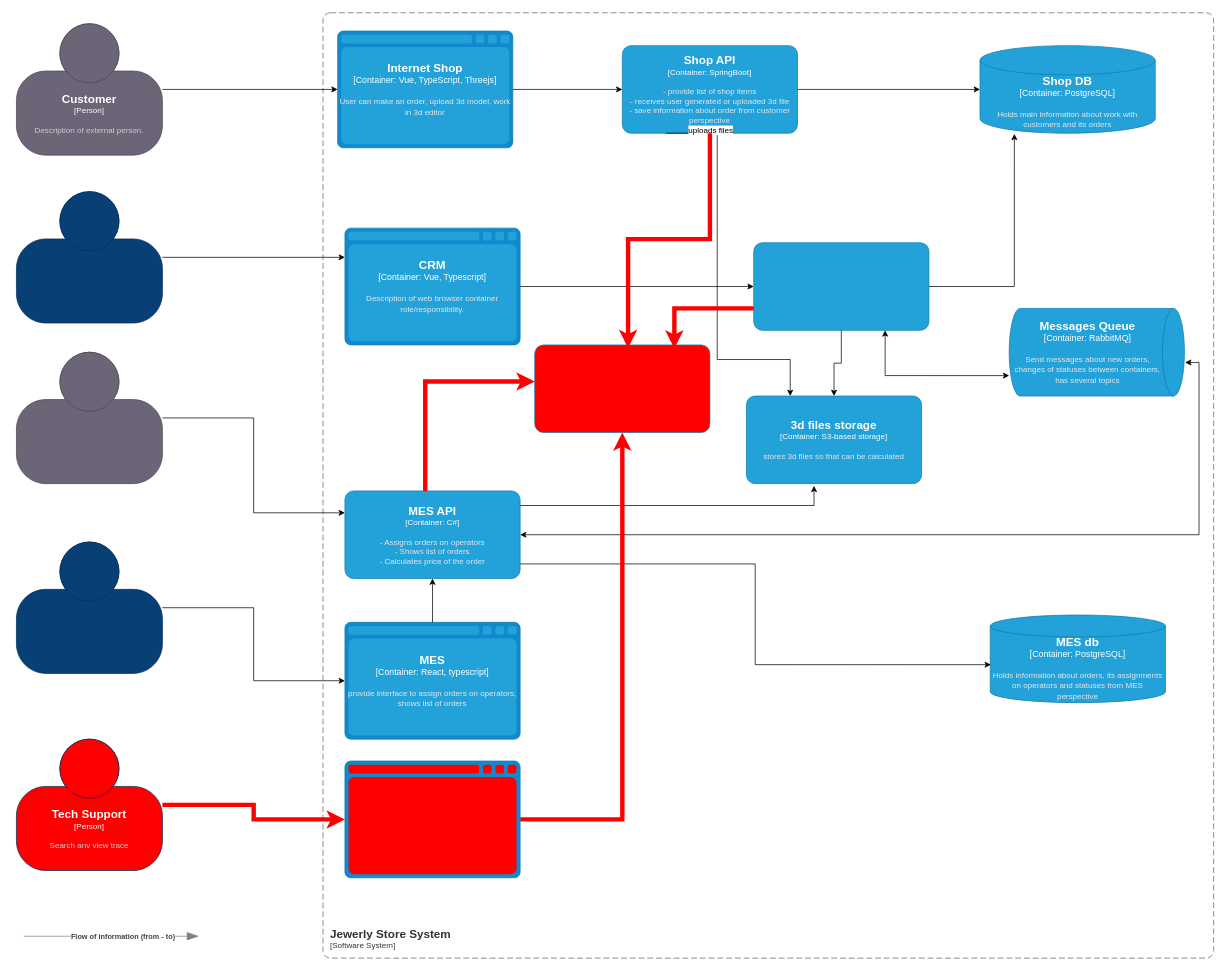
This 1226x971 diagram has some shape labels left out. Here are the shapes that lost their labels. From the top down, the centre of each, then its label:
At point 89,257: "Seller [Person] Operates with order, confirms manufacturing for the user".
At point 841,286: "CRM API [Container: SpringBoot] Description of container role/responsibility.".
At point 622,388: "Jaeger [Container: ] Store trace data".
At point 89,417: "API user [Person] Description of external person.".
At point 89,607: "Operator [Person] Takes order in work, manufactures jewerly".
At point 432,819: "Jaeger UI [Container: Trace Utility] Visualisation trace data".
